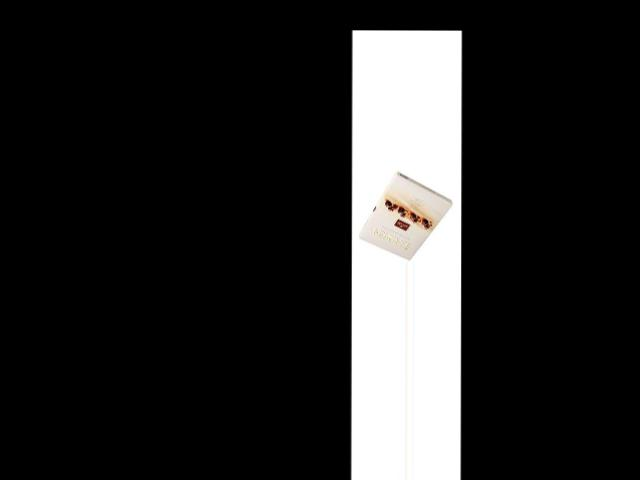chocolate: (358, 169, 460, 259)
